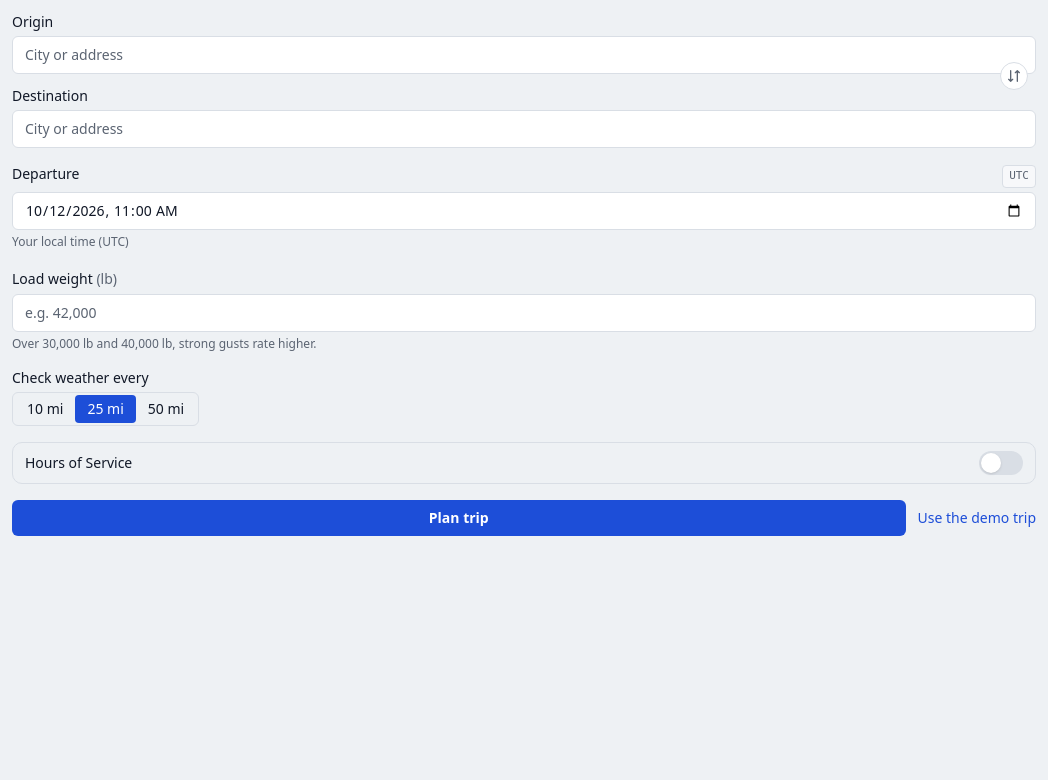
Test: TripForm › shows every missing field with the API message, without sending
Click the button "Plan trip".
click(459, 518)  # box [12,500,906,536]
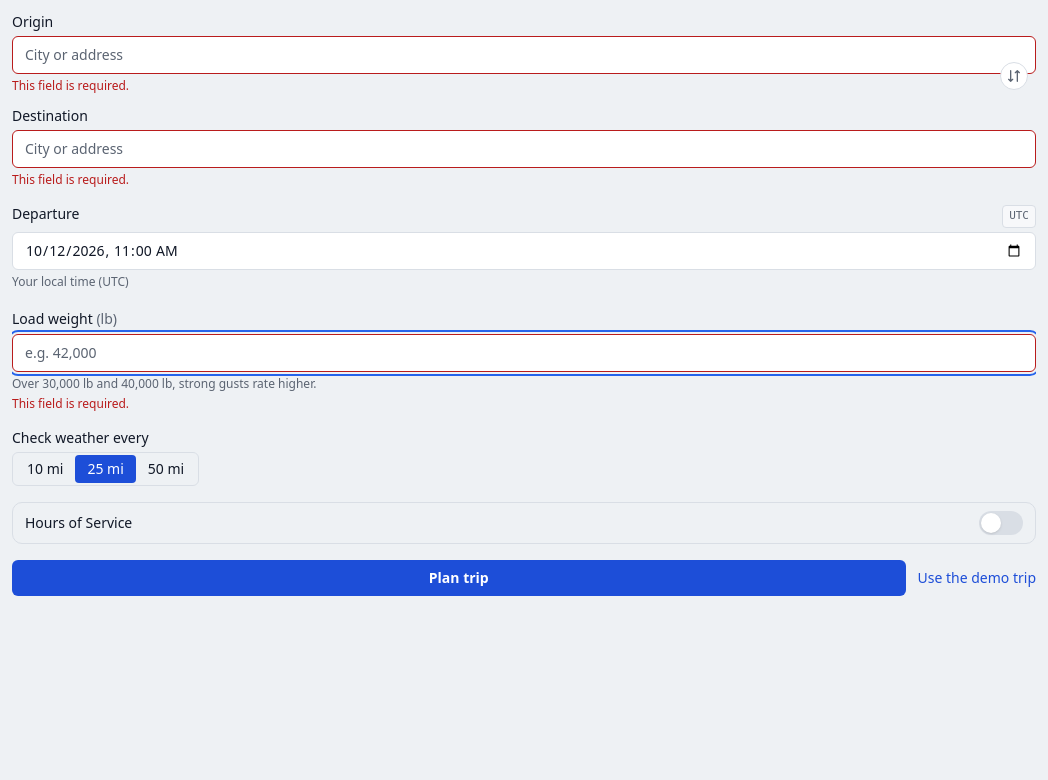
Now the text "This field is required." is shown 3 times, box [12,77,129,94]; [12,171,129,188]; [12,394,129,412]
